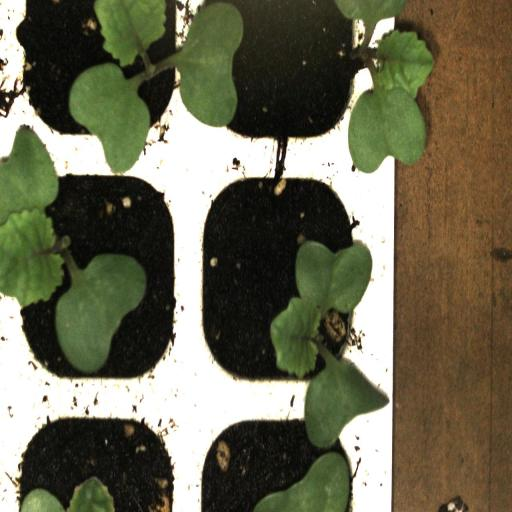Folha: (253, 239, 384, 512), (348, 28, 433, 173), (165, 0, 248, 128), (19, 477, 115, 512)
Germinacao: (8, 160, 190, 390), (190, 159, 368, 389), (12, 0, 192, 157), (191, 0, 380, 149)
